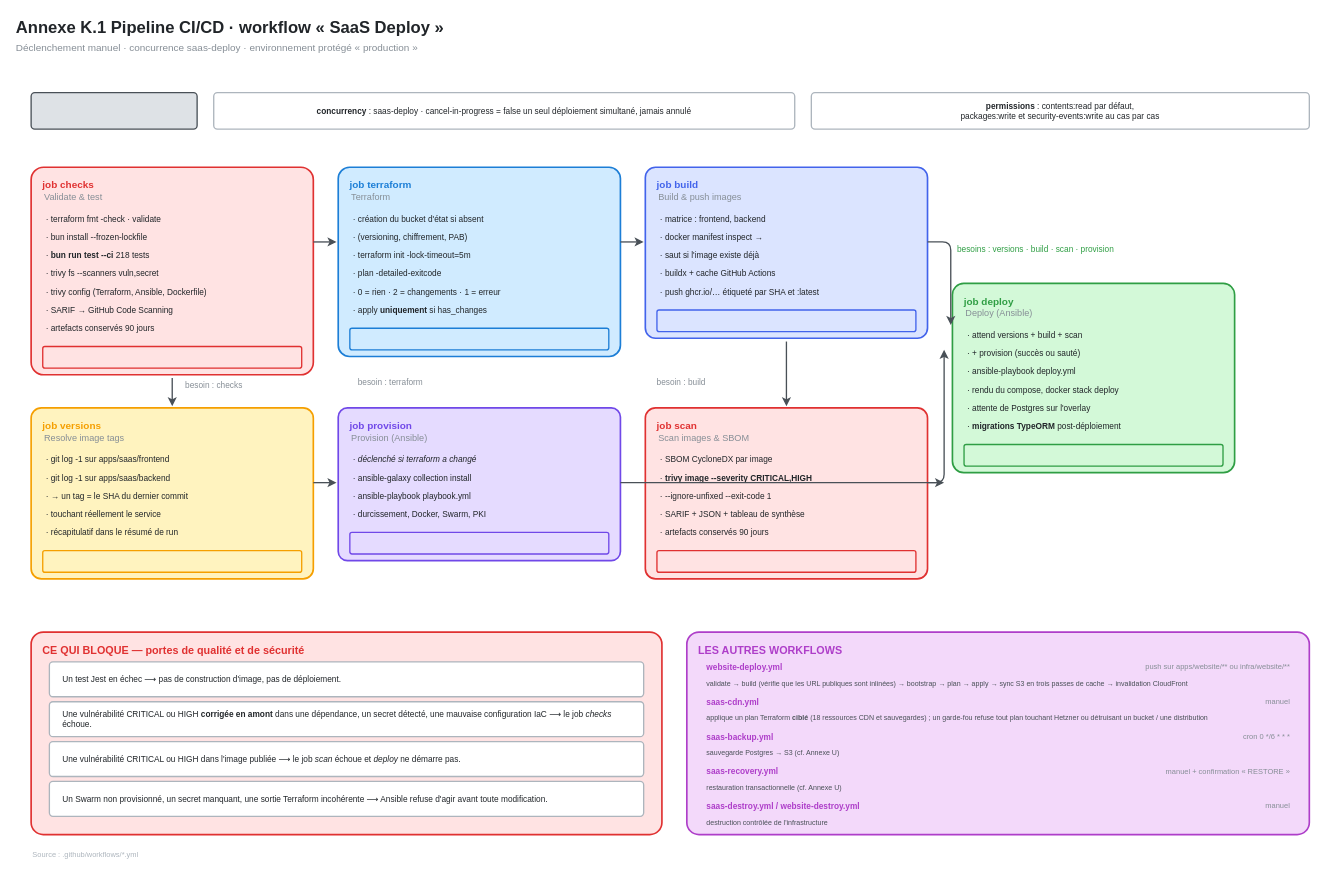
Image size: 1335x876. Some labels were removed from this diagram. Here are the shapes that lost their labels. From the top down, the centre of each, then its label:
point (113, 110): workflow_dispatch
point (479, 338): Provisionnement idempotent
point (786, 320): Construction reproductible
point (172, 356): PORTE 1 · qualité + sécurité du dépôt
point (1093, 454): Mise à jour progressive, rollback auto
point (172, 561): Image immuable, traçable au commit
point (479, 542): Configuration des nœuds
point (786, 561): PORTE 2 · sécurité de l'artefact
